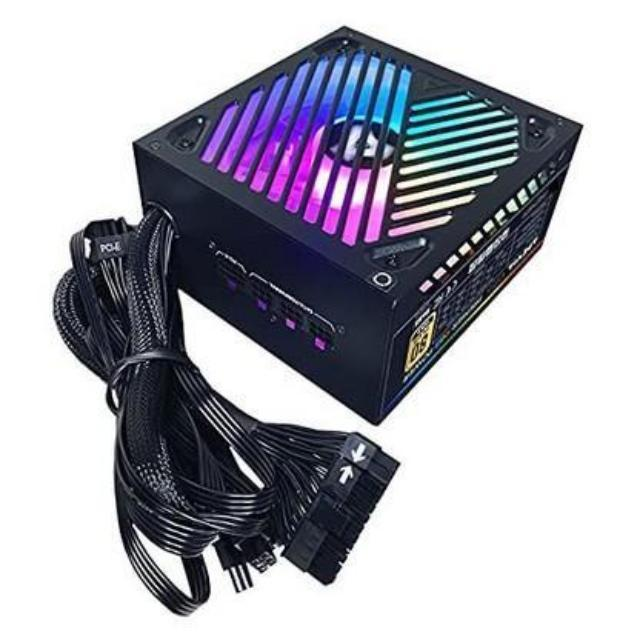PSU: (48, 19, 588, 614)
